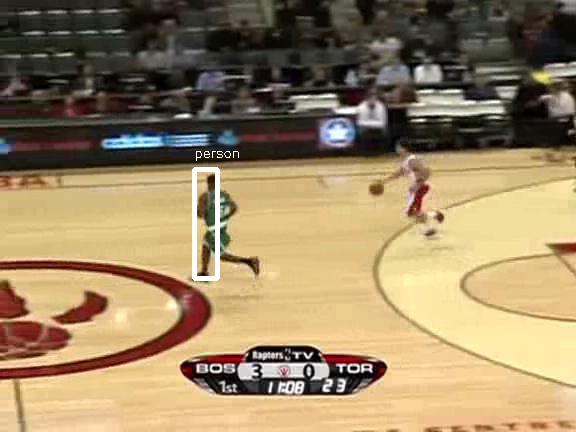person: (201, 182, 235, 263), (200, 182, 234, 263), (202, 182, 236, 263), (201, 181, 235, 262), (201, 183, 235, 264)
target_negative: (2, 144, 358, 425), (410, 265, 541, 418), (472, 327, 562, 418), (478, 188, 498, 354), (339, 165, 373, 251), (140, 313, 231, 325)
